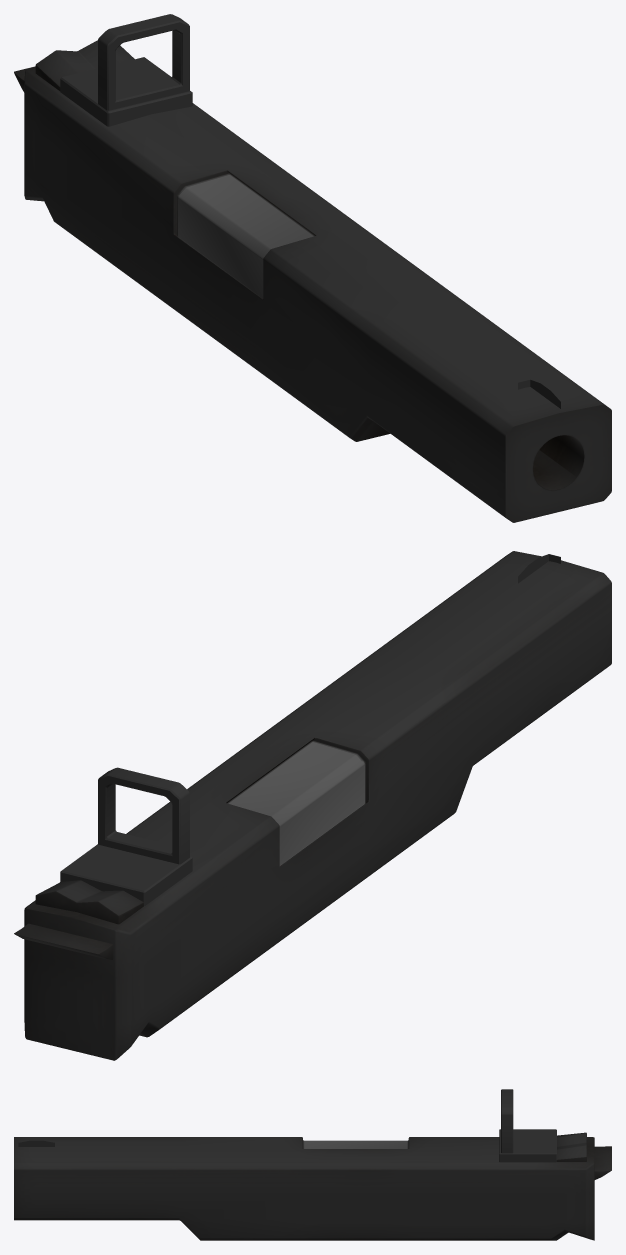
File: handgun_slider.obj
3 views of the same model, one above another, from view 1: azimuth 30°, elevation 25°; view 2: azimuth 150°, elevation 25°; view 3: azimuth 270°, elevation 25° (orthographic). The views are drawn at different scales.
Parts seen in each view (by area): view 1: Slider; view 2: Slider; view 3: Slider.
Boxes of the visible parts, left/top/right/bottom form: Slider: left=14, top=14, right=611, bottom=522; Slider: left=14, top=551, right=611, bottom=1060; Slider: left=14, top=1089, right=611, bottom=1240.
Size of the model in its own units: 0.8589 by 1.68 by 7.03.
Materials: 1 (1 with a texture image).
